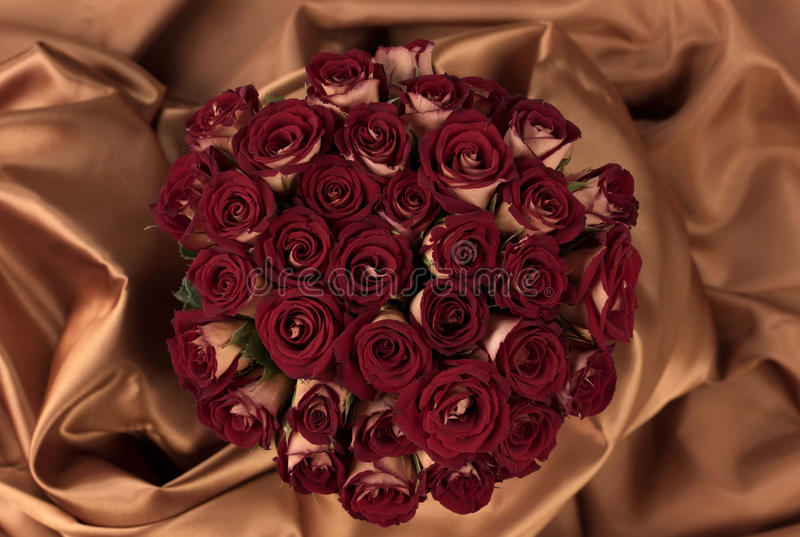RedRose: (427, 366, 493, 468), (417, 107, 500, 180), (238, 104, 335, 166), (271, 293, 339, 381), (550, 143, 636, 211), (495, 330, 567, 401), (418, 276, 487, 347), (605, 231, 652, 335), (284, 371, 350, 443), (358, 328, 436, 385), (319, 60, 401, 113), (194, 254, 261, 318), (158, 168, 220, 237), (499, 194, 580, 241), (350, 229, 405, 298), (173, 328, 232, 391), (266, 214, 331, 271), (378, 169, 440, 227), (305, 171, 382, 215), (199, 95, 242, 173), (508, 248, 558, 314), (416, 61, 466, 126), (511, 109, 575, 159), (370, 474, 430, 524), (571, 341, 615, 407), (223, 403, 275, 456), (453, 220, 491, 289), (365, 403, 407, 461), (504, 398, 536, 467), (383, 43, 434, 86), (281, 455, 336, 490), (237, 205, 285, 242), (364, 119, 408, 159), (443, 461, 481, 506)
